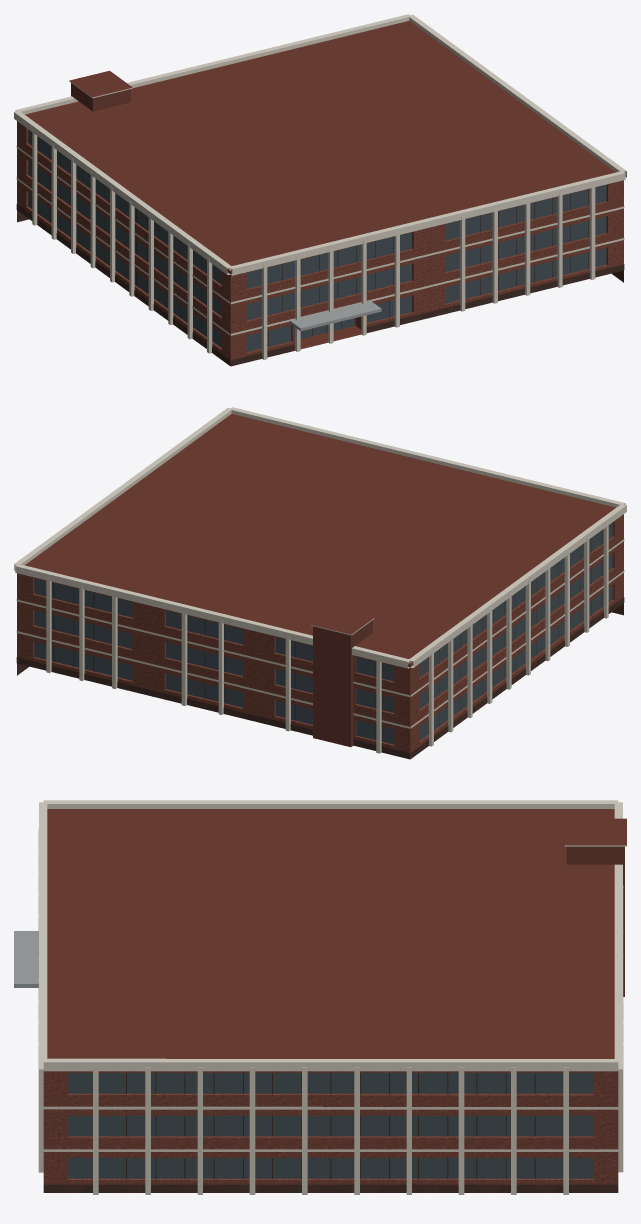
3 views of the same model, one above another, from view 1: azimuth 30°, elevation 25°; view 2: azimuth 150°, elevation 25°; view 3: azimuth 270°, elevation 25° (orthographic). The views are drawn at different scales.
Parts seen in each view (by area): view 1: undergradLib__roof, undergradLib__trim, undergradLib__wall, undergradLib__glass, undergradLib__base, undergradLib__frame, undergradLib__canopy, undergradLib__wall2; view 2: undergradLib__roof, undergradLib__wall, undergradLib__trim, undergradLib__glass, undergradLib__wall2, undergradLib__base, undergradLib__frame; view 3: undergradLib__roof, undergradLib__glass, undergradLib__trim, undergradLib__wall, undergradLib__base, undergradLib__frame, undergradLib__canopy, undergradLib__wall2.
Part boxes in pixels (bbox=[...]): undergradLib__roof: bbox=[25, 21, 615, 350]; undergradLib__trim: bbox=[14, 14, 626, 359]; undergradLib__wall: bbox=[17, 121, 623, 366]; undergradLib__glass: bbox=[28, 129, 606, 351]; undergradLib__base: bbox=[16, 204, 624, 366]; undergradLib__frame: bbox=[38, 137, 588, 346]; undergradLib__canopy: bbox=[289, 301, 381, 331]; undergradLib__wall2: bbox=[71, 83, 130, 111]; undergradLib__roof: bbox=[25, 414, 615, 664]; undergradLib__wall: bbox=[17, 514, 623, 758]; undergradLib__trim: bbox=[14, 407, 626, 753]; undergradLib__glass: bbox=[34, 522, 612, 744]; undergradLib__wall2: bbox=[313, 620, 372, 747]; undergradLib__base: bbox=[16, 597, 624, 759]; undergradLib__frame: bbox=[53, 530, 602, 739]; undergradLib__roof: bbox=[47, 809, 626, 1058]; undergradLib__glass: bbox=[68, 1073, 593, 1178]; undergradLib__trim: bbox=[38, 800, 626, 1194]; undergradLib__wall: bbox=[43, 1071, 618, 1184]; undergradLib__base: bbox=[43, 1184, 618, 1192]; undergradLib__frame: bbox=[126, 1073, 535, 1178]; undergradLib__canopy: bbox=[14, 931, 38, 987]; undergradLib__wall2: bbox=[566, 846, 624, 996].
Size of the model in its own units: 50.31 by 15.15 by 49.7.
9 materials, 2 textured.
